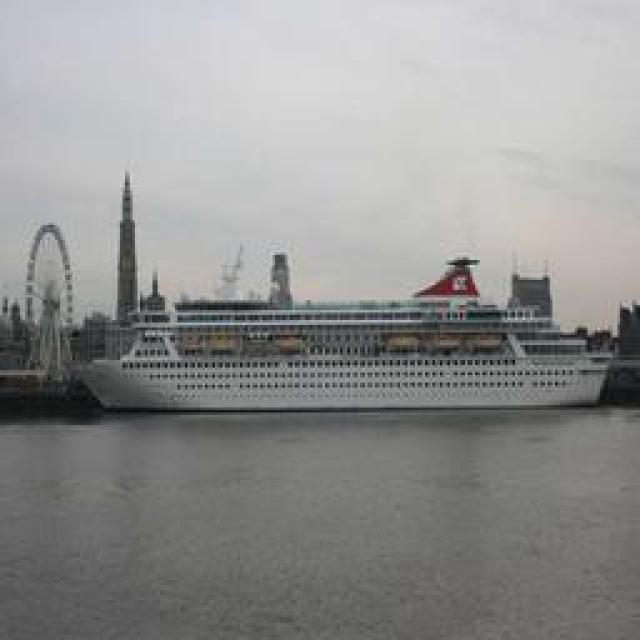Ship: (68, 266, 626, 416)
